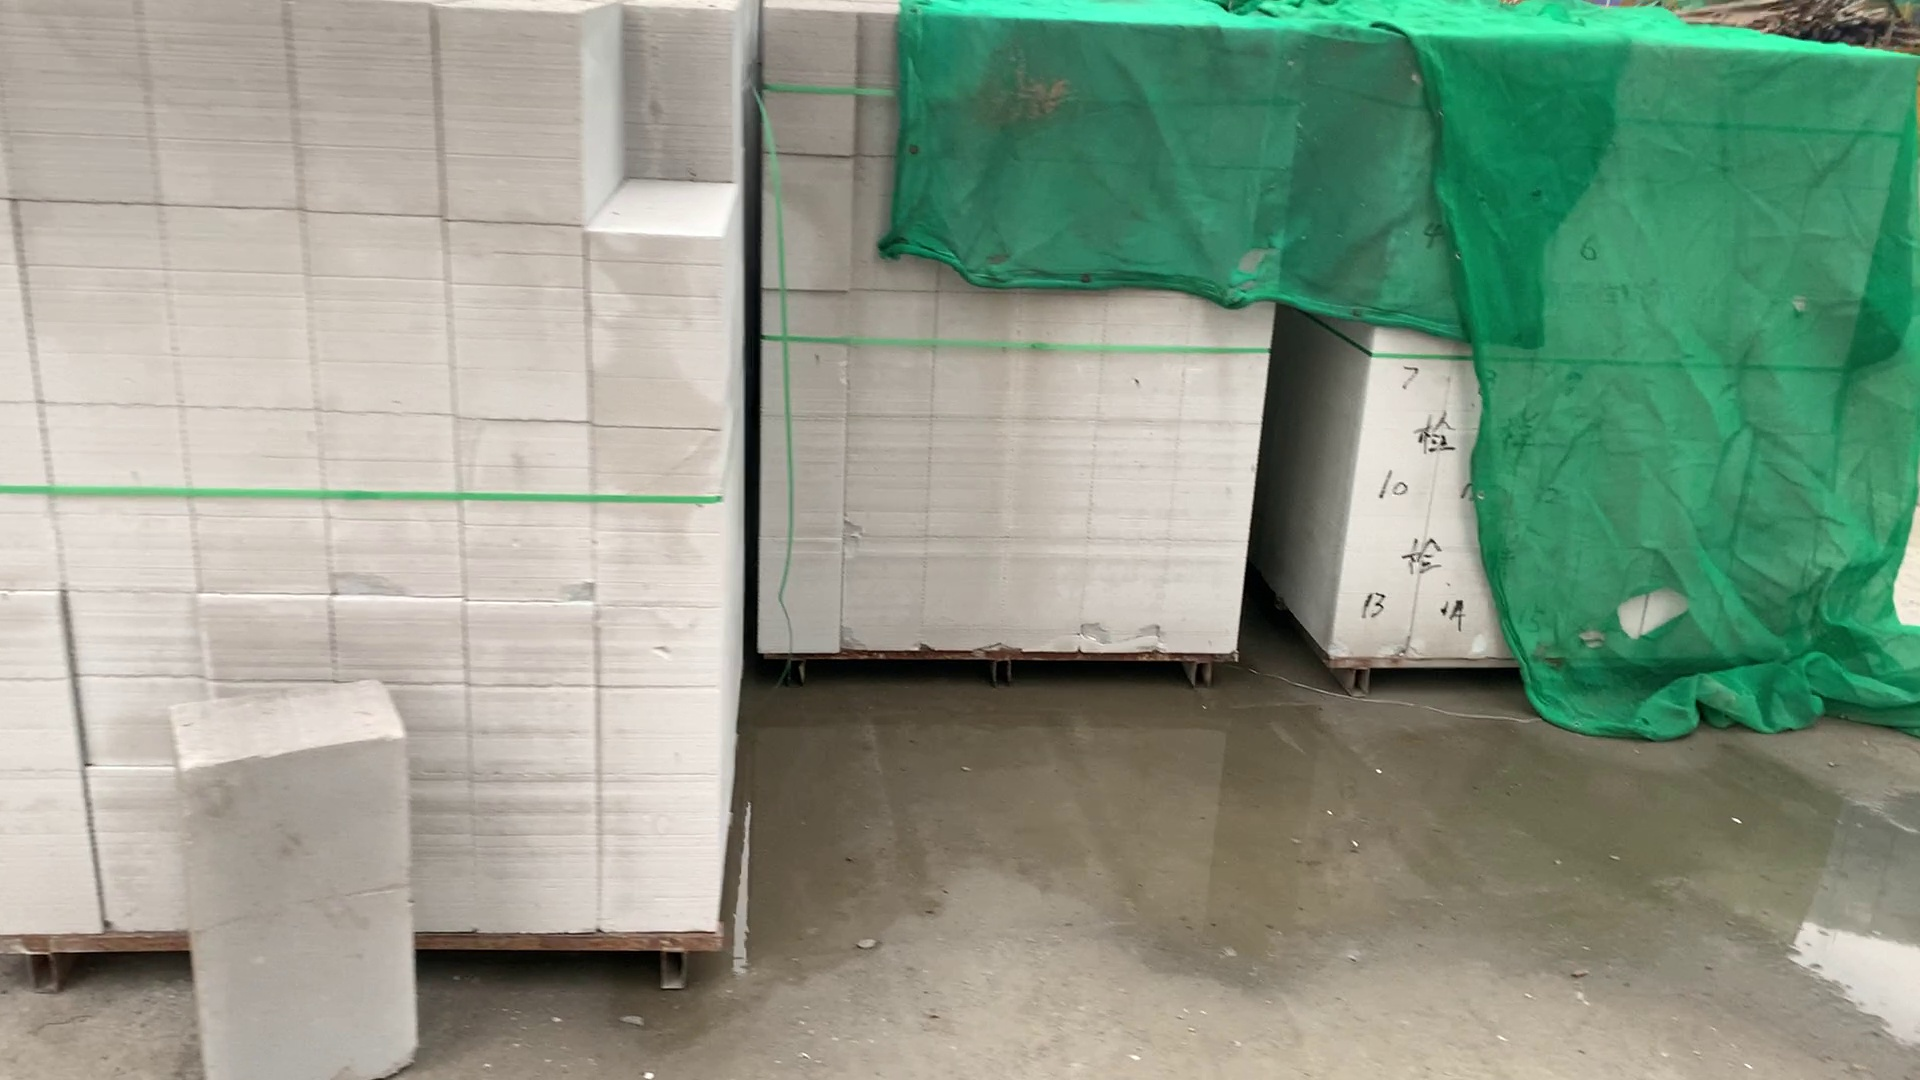brickwork: (3, 7, 735, 973), (756, 11, 1257, 679), (1356, 36, 1816, 666)
